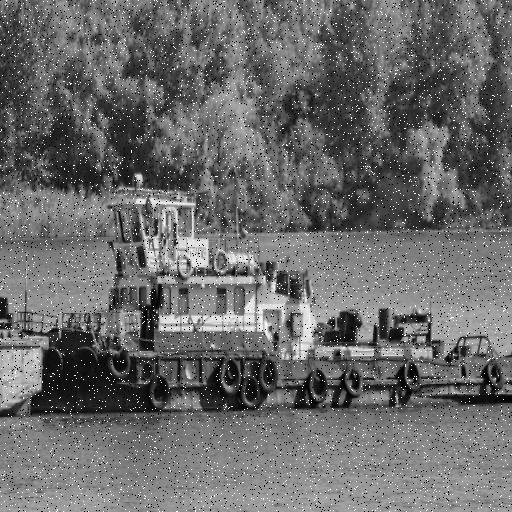tugboat: (45, 165, 512, 421)
